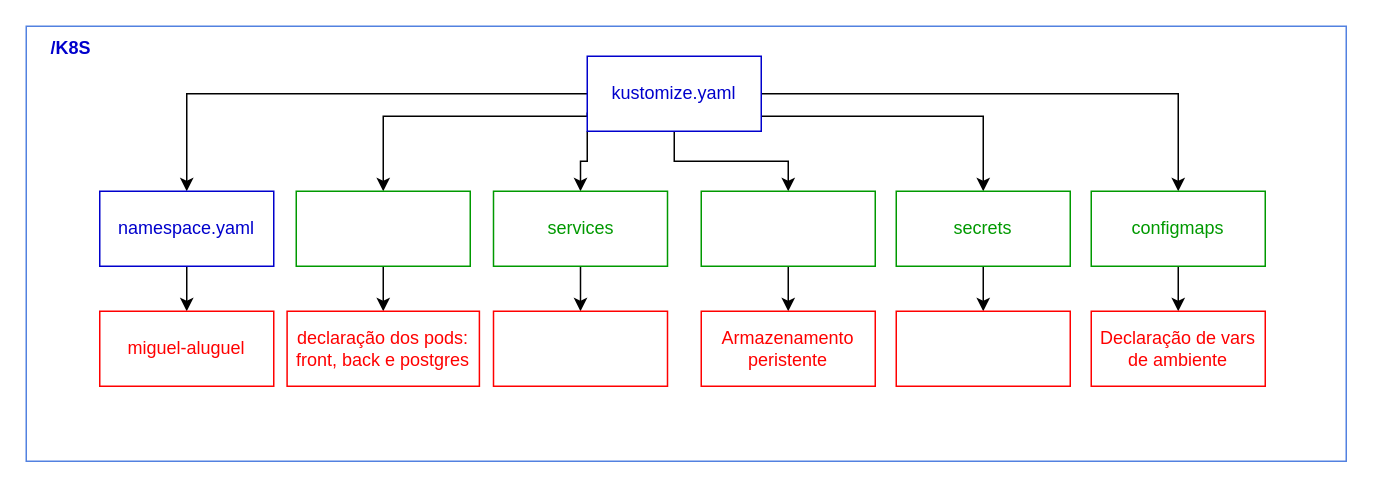
The diagram is 1373 pixels wide and 488 high, and some of its shapes have lost their labels. Each missing label, with the box of its shape:
Acesso e comunicação com os PODS: (492, 310, 668, 386)
Declaração de vars de ambiente sensíveis: (895, 310, 1070, 386)
deployments: (295, 190, 470, 266)
storage: (700, 190, 875, 266)
